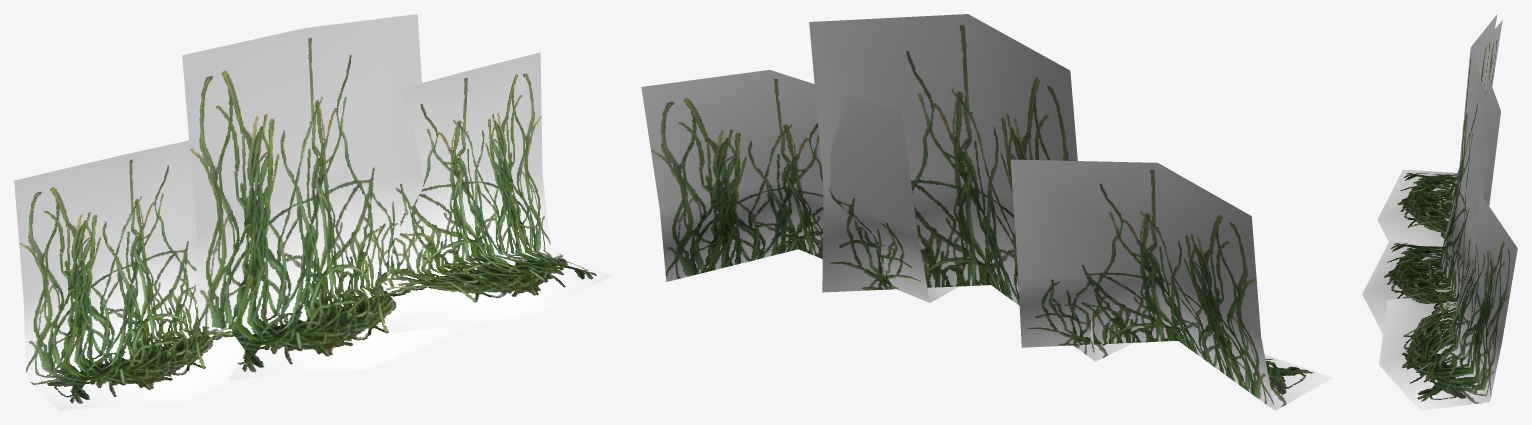
Rendered from plant08d.fbx.
The picture shows the model from 3 angles, left to right: view 1: azimuth 30°, elevation 25°; view 2: azimuth 150°, elevation 25°; view 3: azimuth 270°, elevation 25°; orthographic projection. The views are drawn at different scales.
Parts seen in each view (by area): view 1: plant08d; view 2: plant08d; view 3: plant08d.
Part boxes in pixels (x1,y1,x2,y2): plant08d: (14,14,612,410); plant08d: (641,14,1333,410); plant08d: (1362,14,1517,410).
Size of the model in its own units: 1.32 by 0.6588 by 0.3734.
